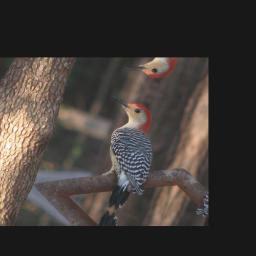Woodpecker: (69, 93, 177, 214)
